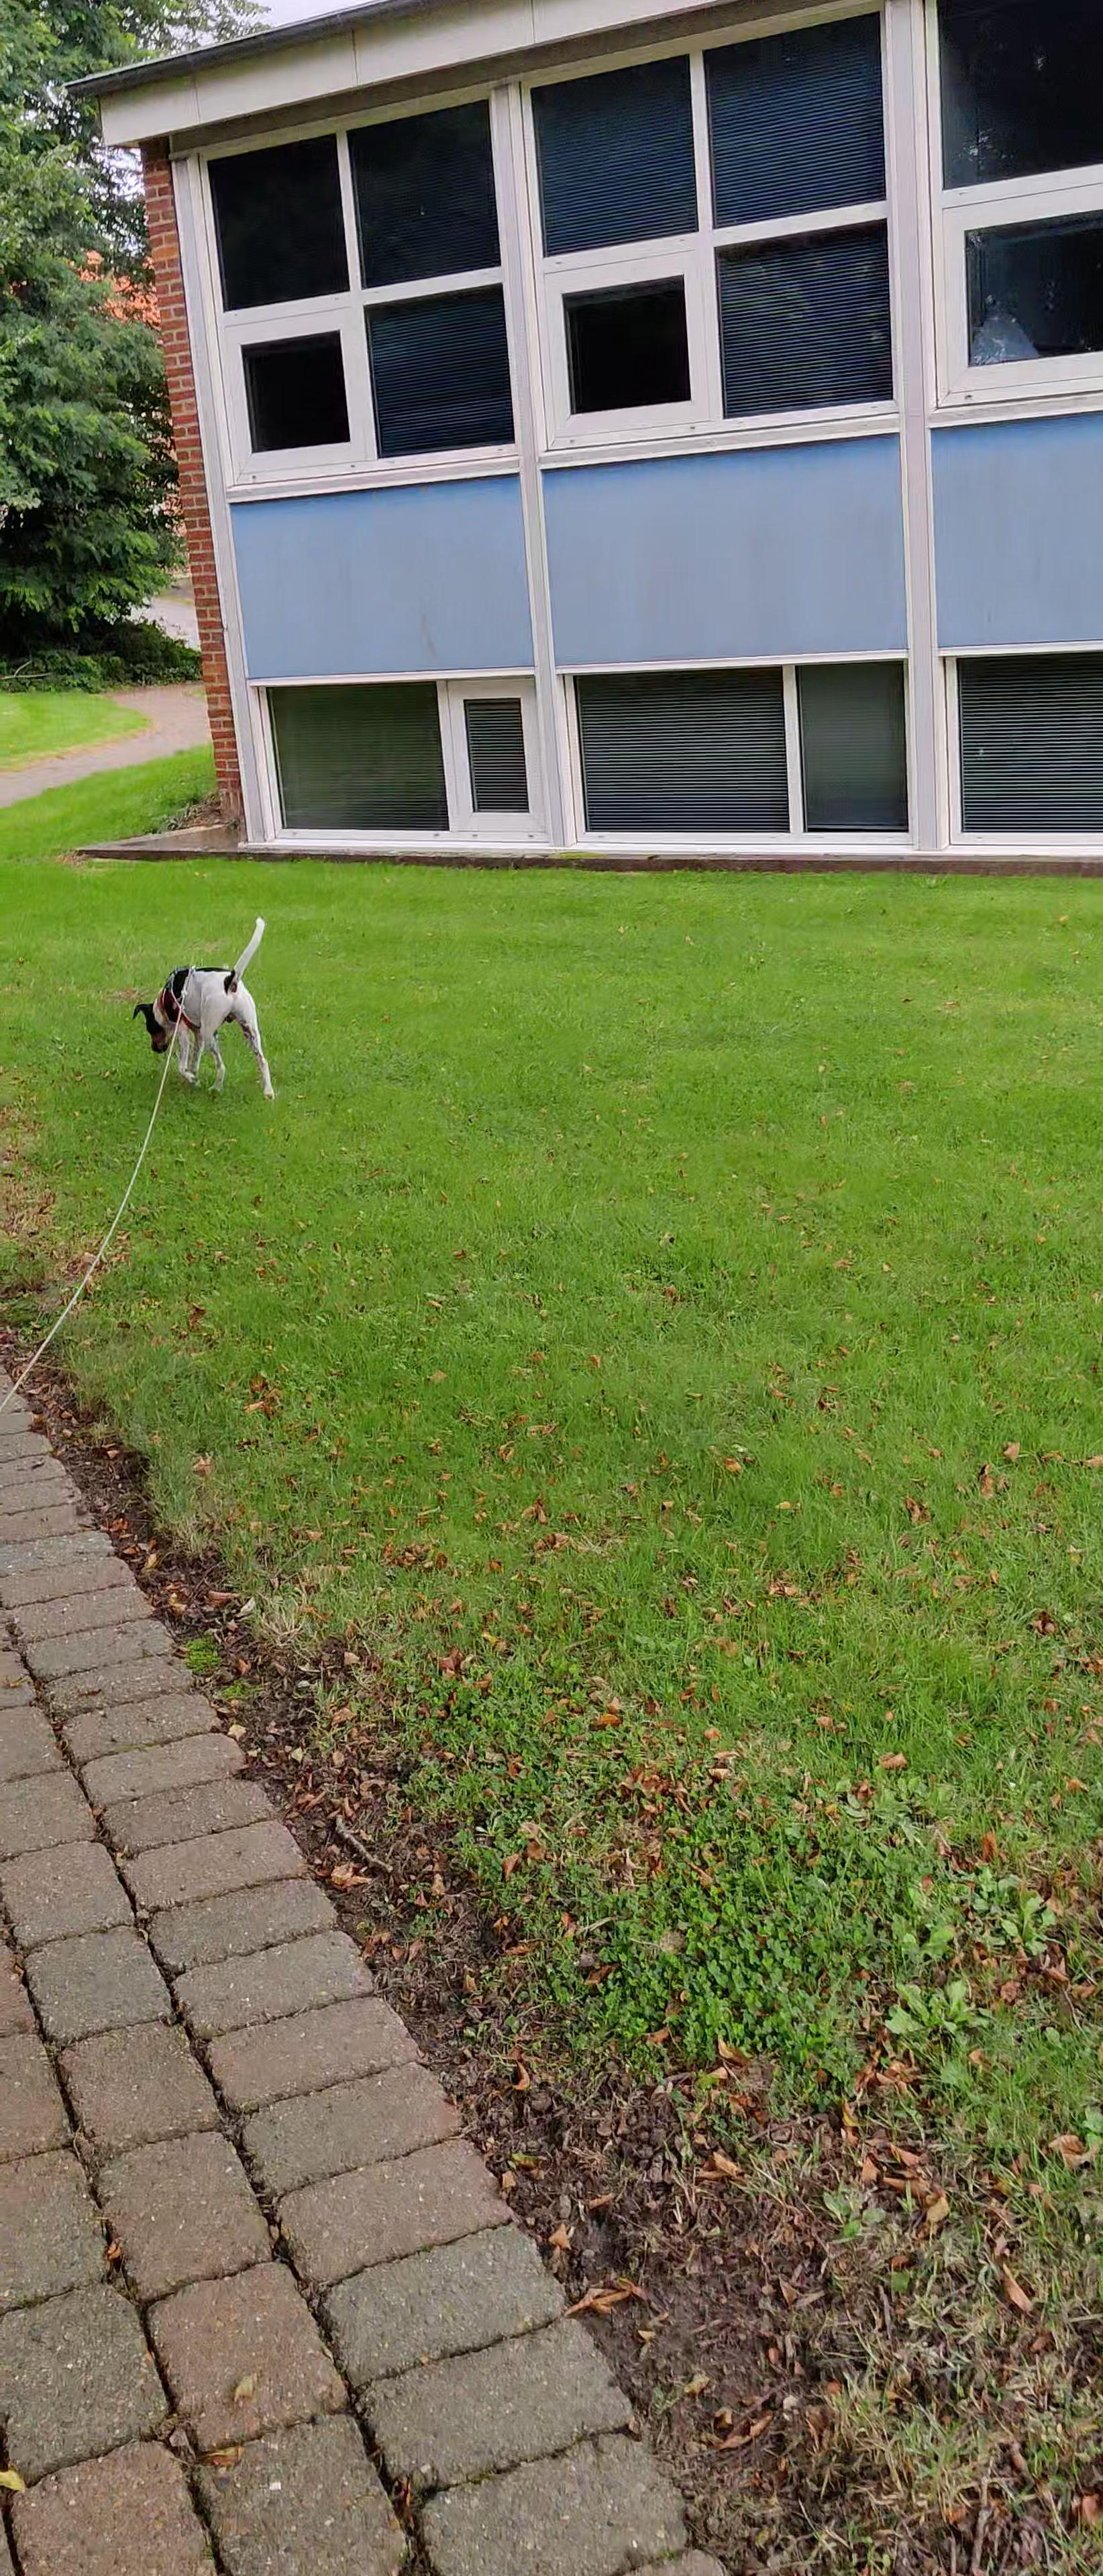Dog: (128, 907, 281, 1109)
